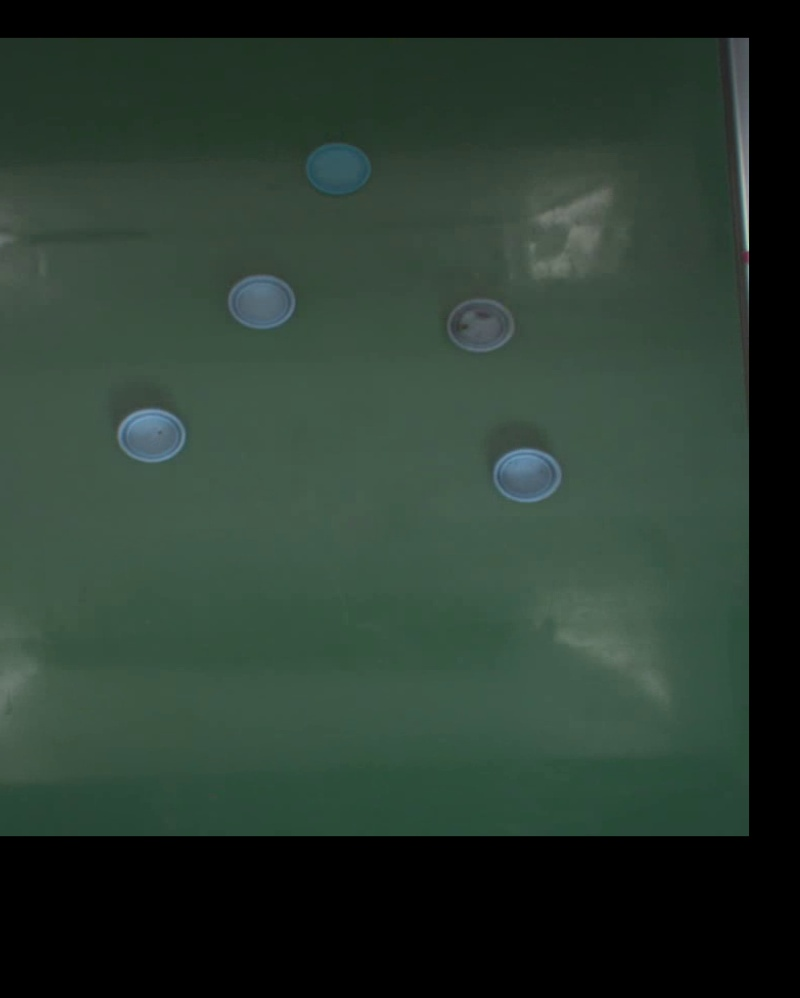Light Blue: (117, 407, 187, 463), (493, 447, 561, 503), (227, 274, 296, 329), (446, 297, 514, 352), (307, 142, 375, 195)
